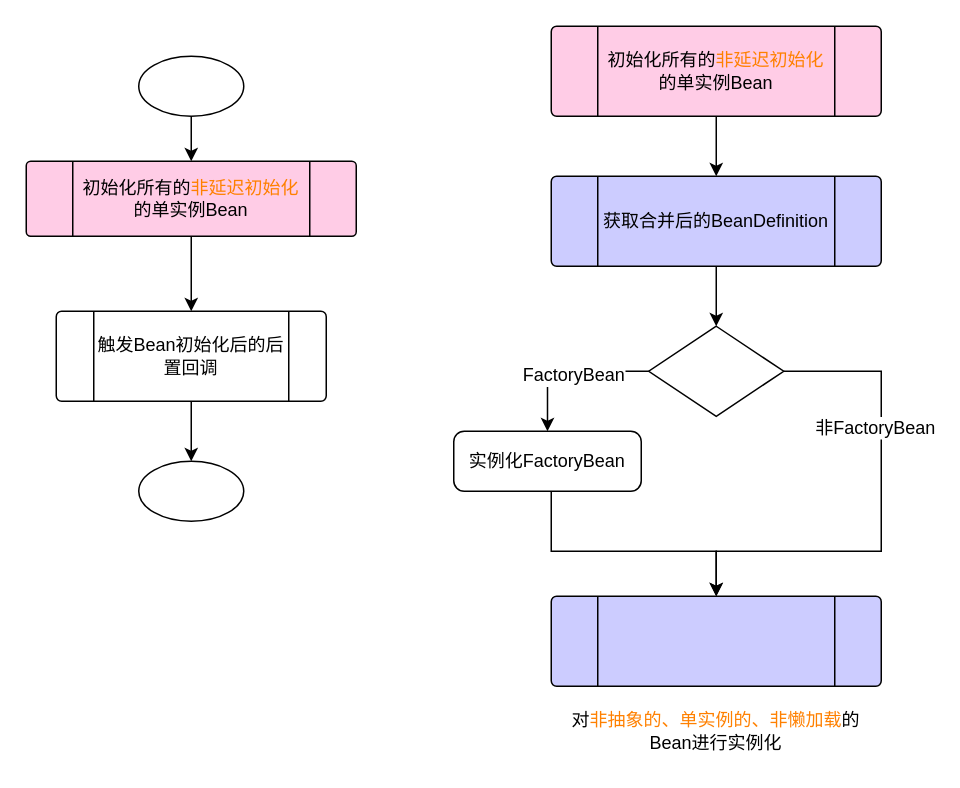
Image size: 960x788. Some labels were removed from this diagram. Each missing label, with the centre of its shape:
"end" goes at pixel 190 490.
"getBean(beanName)" goes at pixel 715 640.
"start" goes at pixel 190 85.
